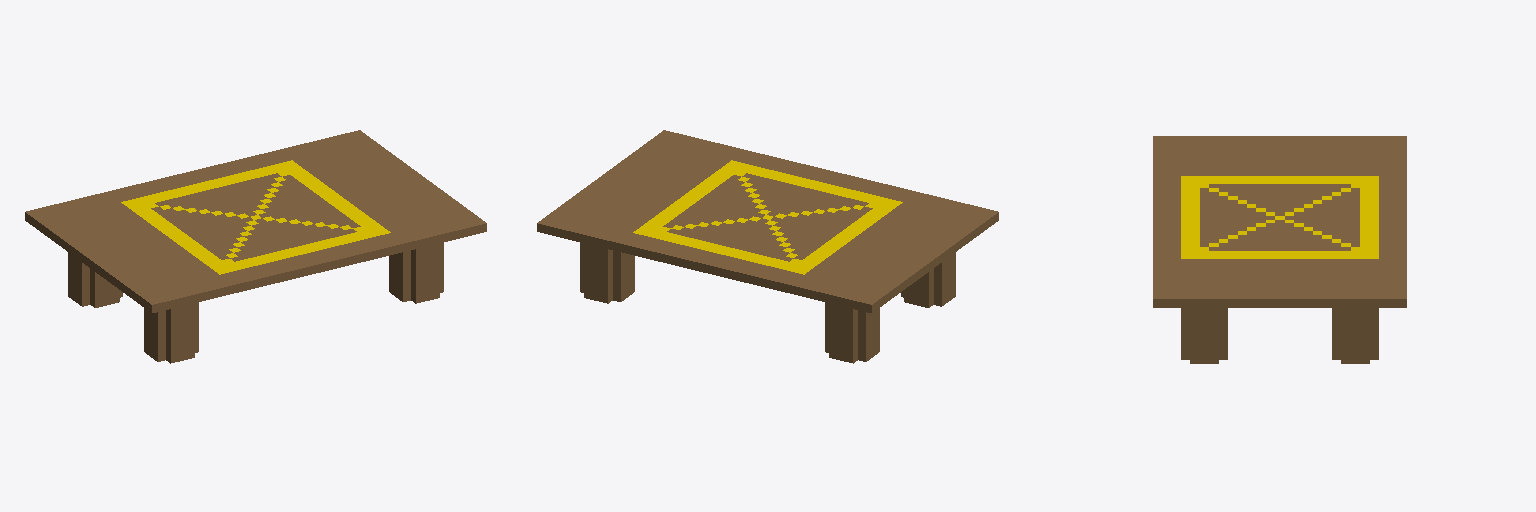
3 renders of one model, left to right at view 1: azimuth 30°, elevation 25°; view 2: azimuth 150°, elevation 25°; view 3: azimuth 270°, elevation 25°, orthographic.
Parts seen in each view (by area): view 1: PackingStation; view 2: PackingStation; view 3: PackingStation.
Boxes of the visible parts, x1=… form: PackingStation: x1=25, y1=130, x2=486, y2=363; PackingStation: x1=537, y1=130, x2=998, y2=363; PackingStation: x1=1153, y1=136, x2=1406, y2=363.
Bounding box in the file's own units: 4.1 × 0.9 × 2.7.
1 materials, 1 textured.